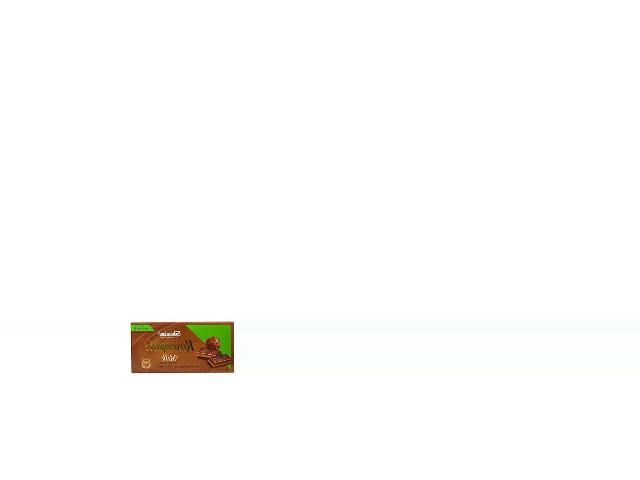chocolate: (127, 317, 235, 375)
